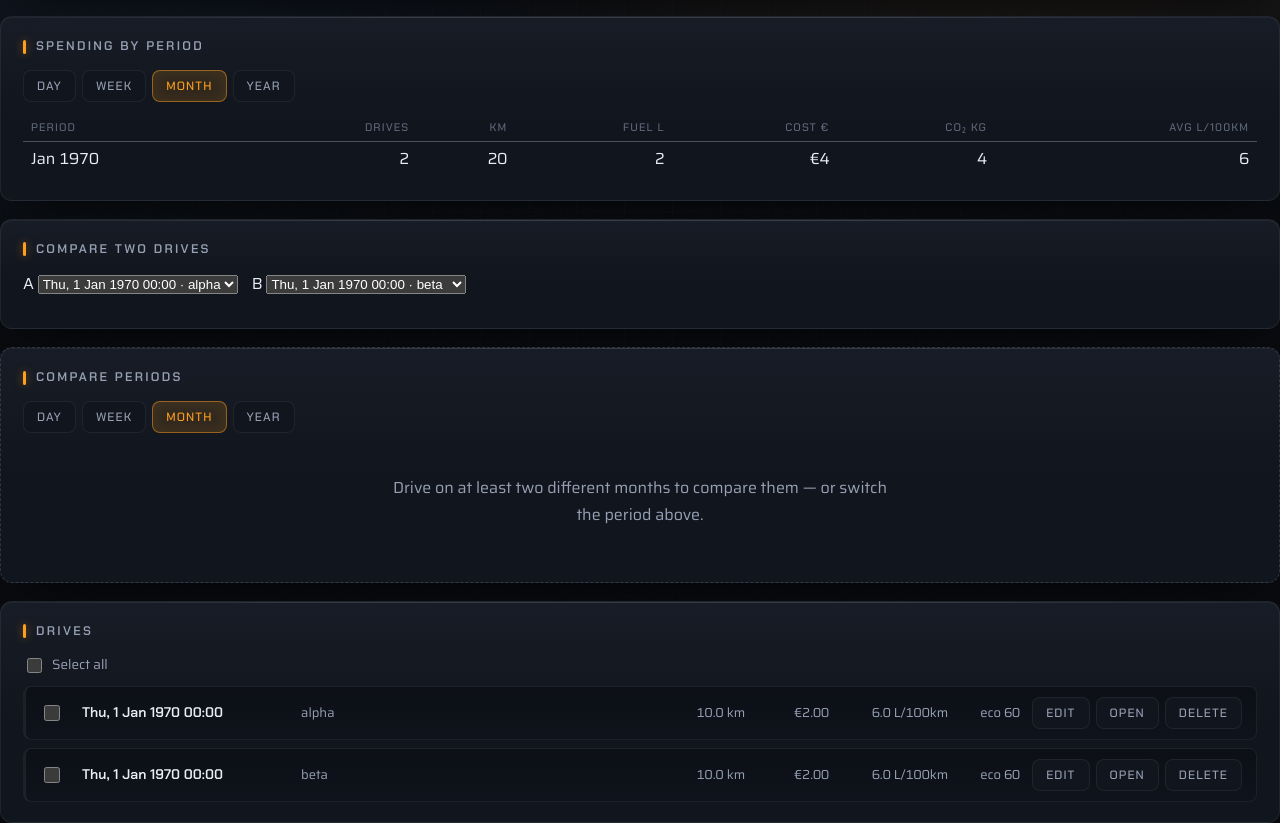
Test: select all toggles every visible row
(page scrolled)
Click the checkbox named "select all drives": click(34, 665) [27,658,42,673]
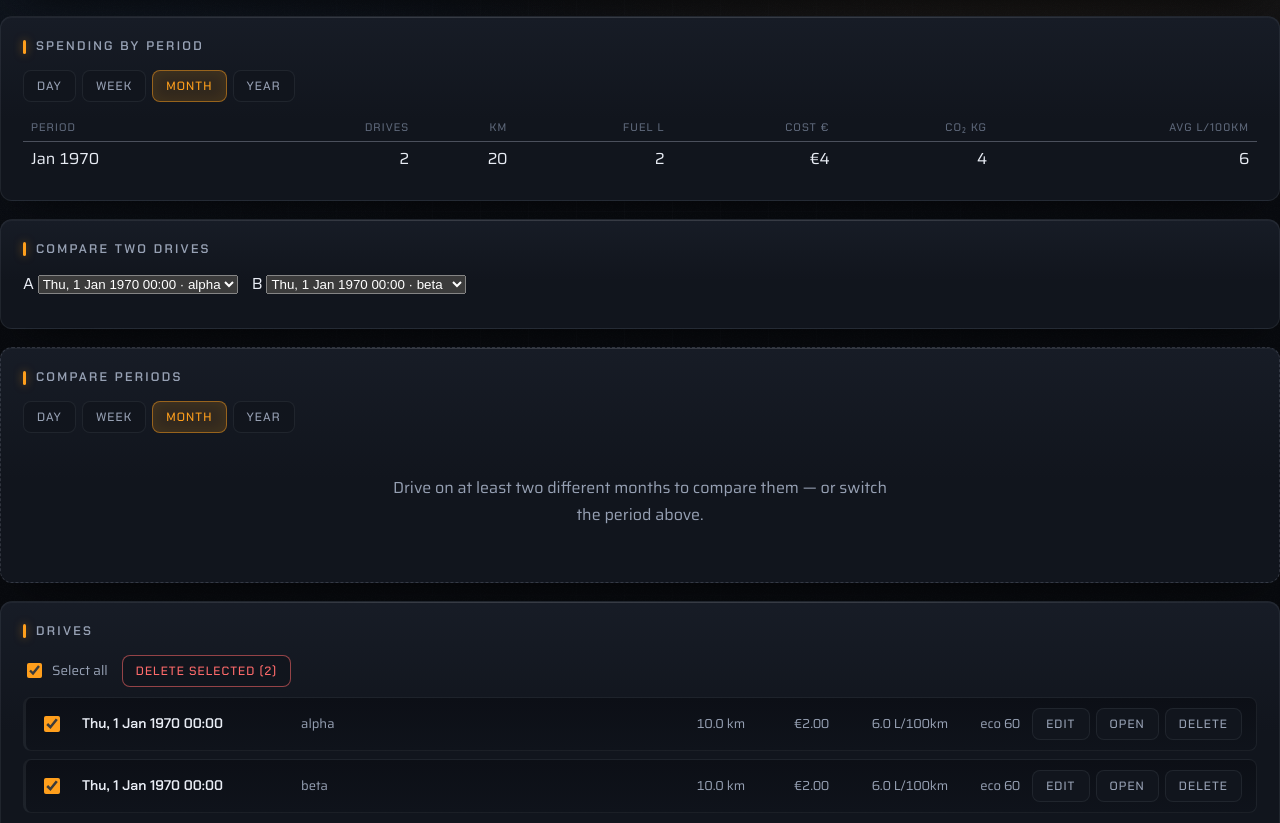
Now the button "Delete selected (2)" is shown, box [122,655,291,687]
Now the checkbox named "select alpha" is checked, box [44,716,60,732]
Click the checkbox named "select all drives": click(34, 671) [27,663,42,678]
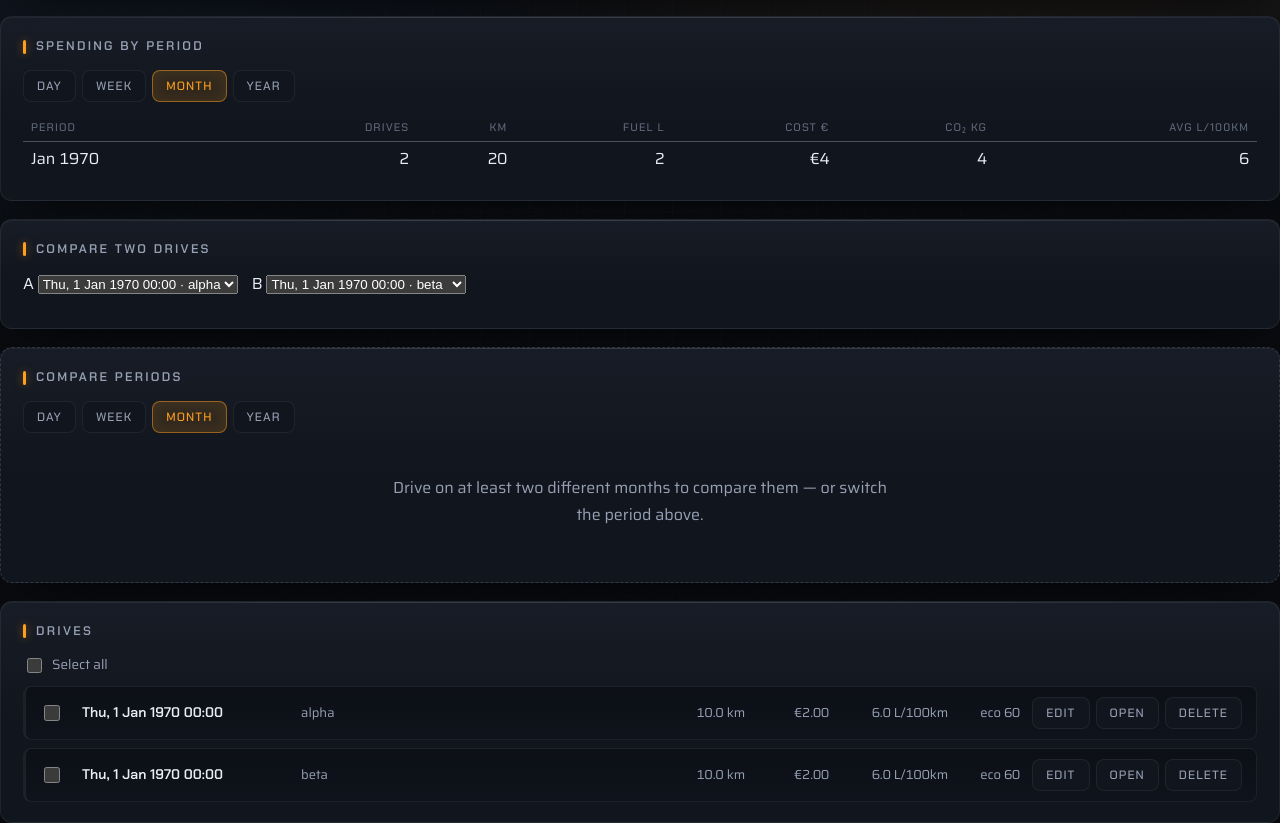
Now the button "Delete selected" is gone
